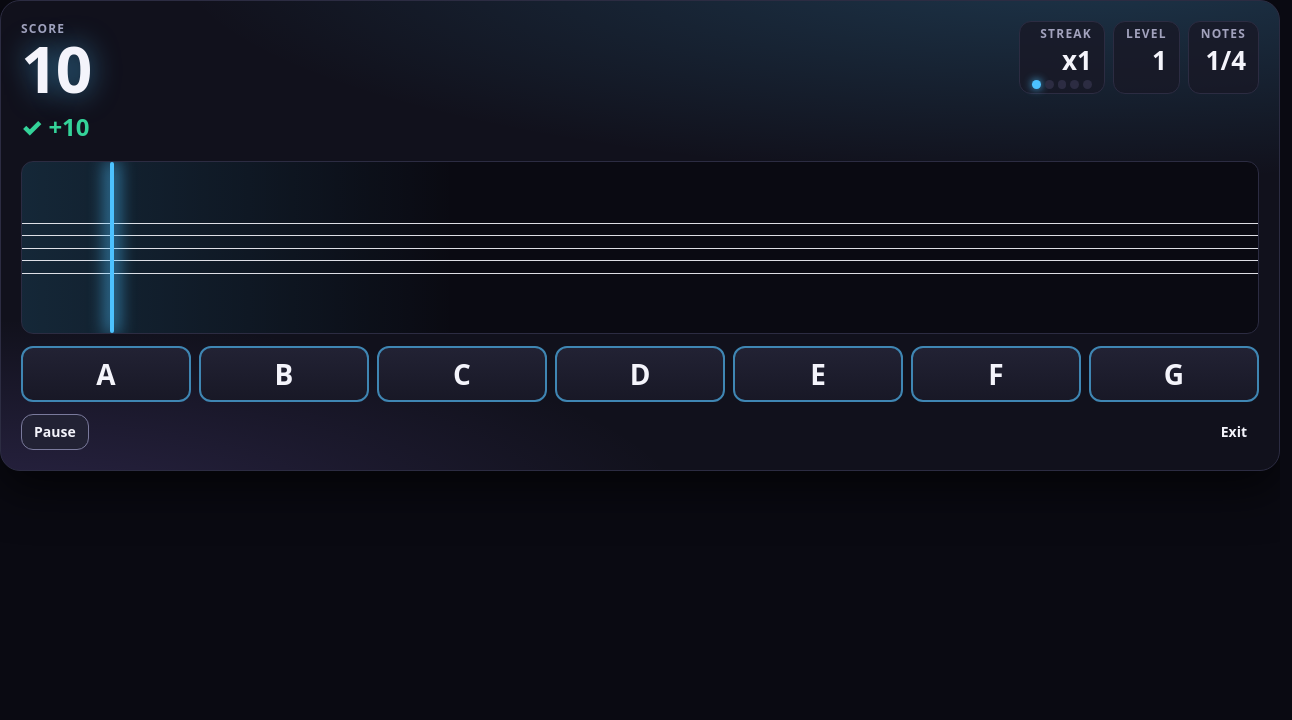
untimed round: start -> play -> results › plays a whole round with buttons and computer keys, right and wrong
The image size is (1292, 720).
Earlier steps of the test are not shown.
Expected: the text with test id "nr-score" reads "10", 21,25 -> 90,112
Expected: the element with test id "nr-feedback" shows "✓", 21,110 -> 42,143
Step 1. Press C
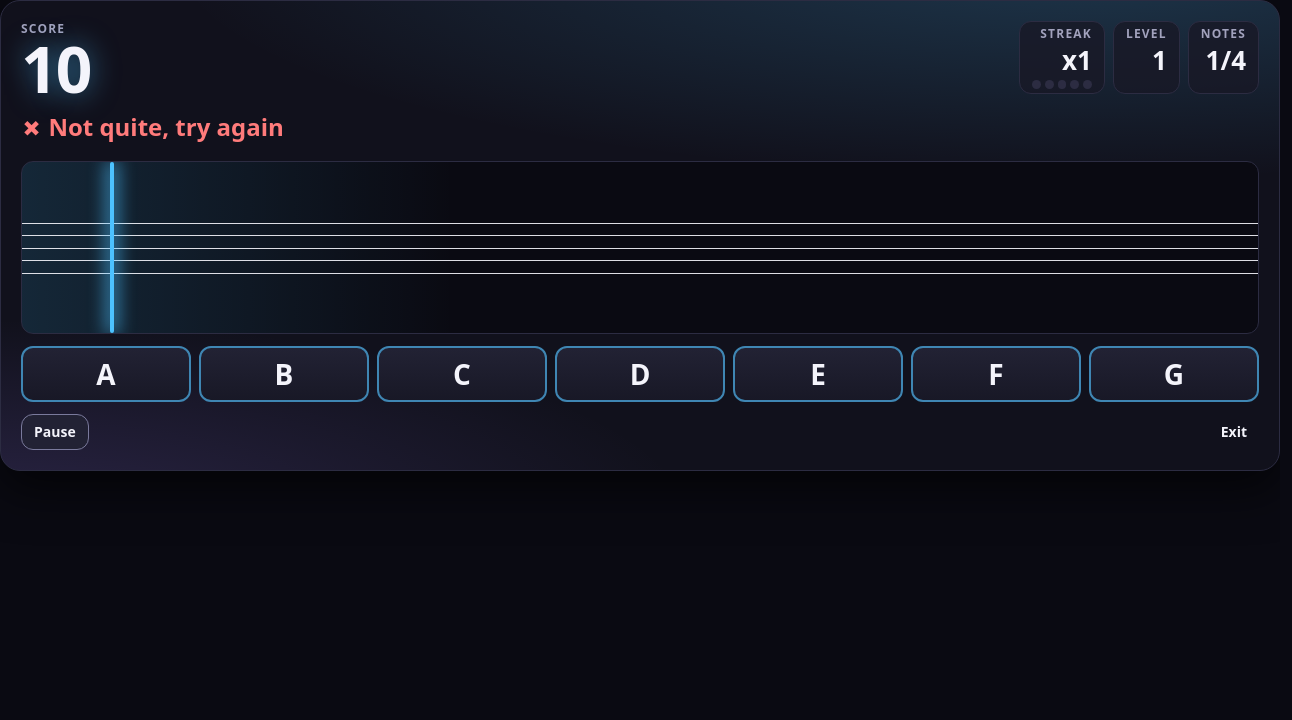
Step 2. Press a
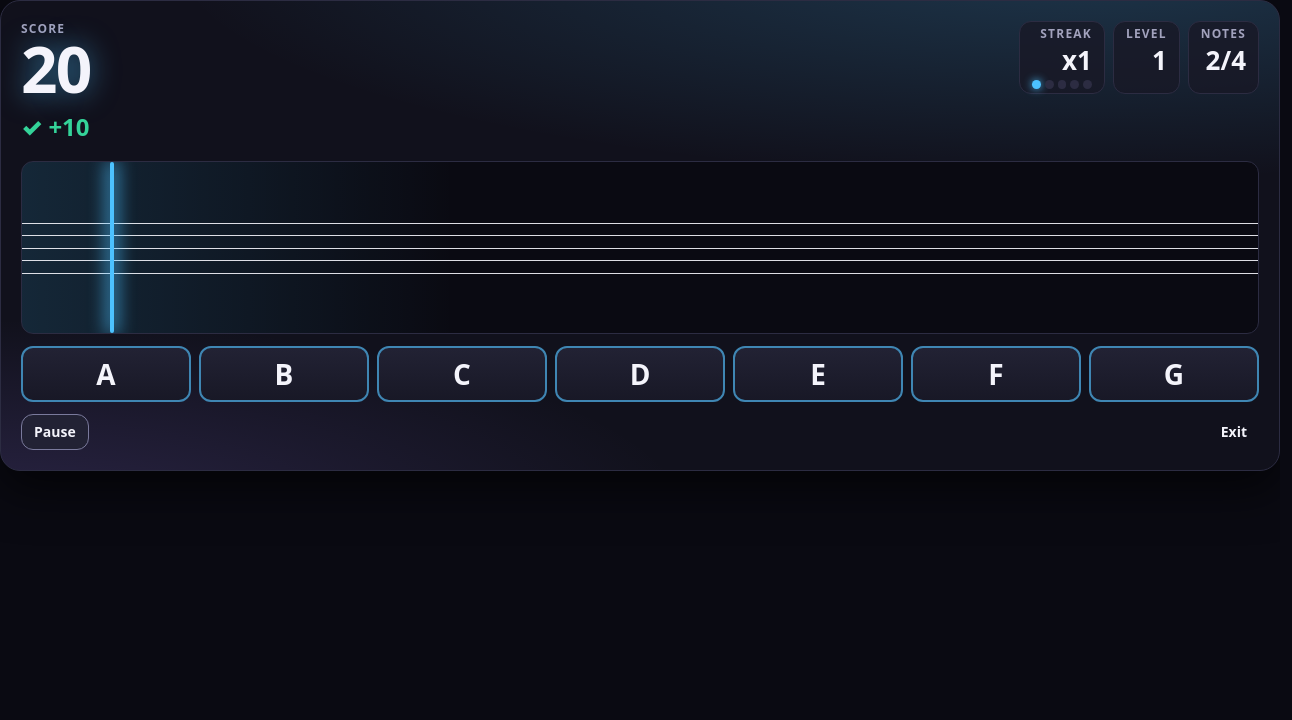
Now the text with test id "nr-score" reads "20", box 21,25 -> 90,112
Step 3. Press h
Step 4. Press 1
Step 5. Press a
Step 6. Press a
Now the text with test id "nr-score" reads "20", box 21,25 -> 90,112
Now the text with test id "nr-progress" reads "2/4", box 1201,42 -> 1246,78
Step 7. Click the button "E" → click(818, 374), box 733,346 -> 903,402
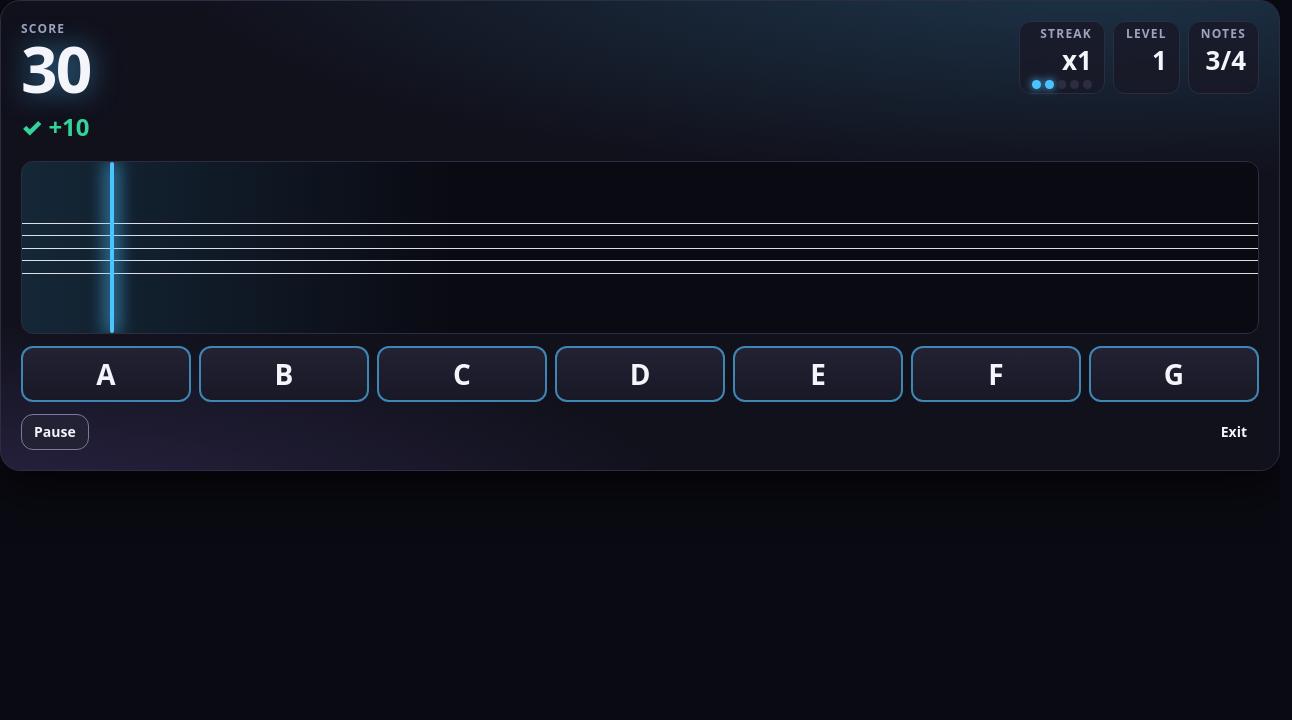
Step 8. Press c
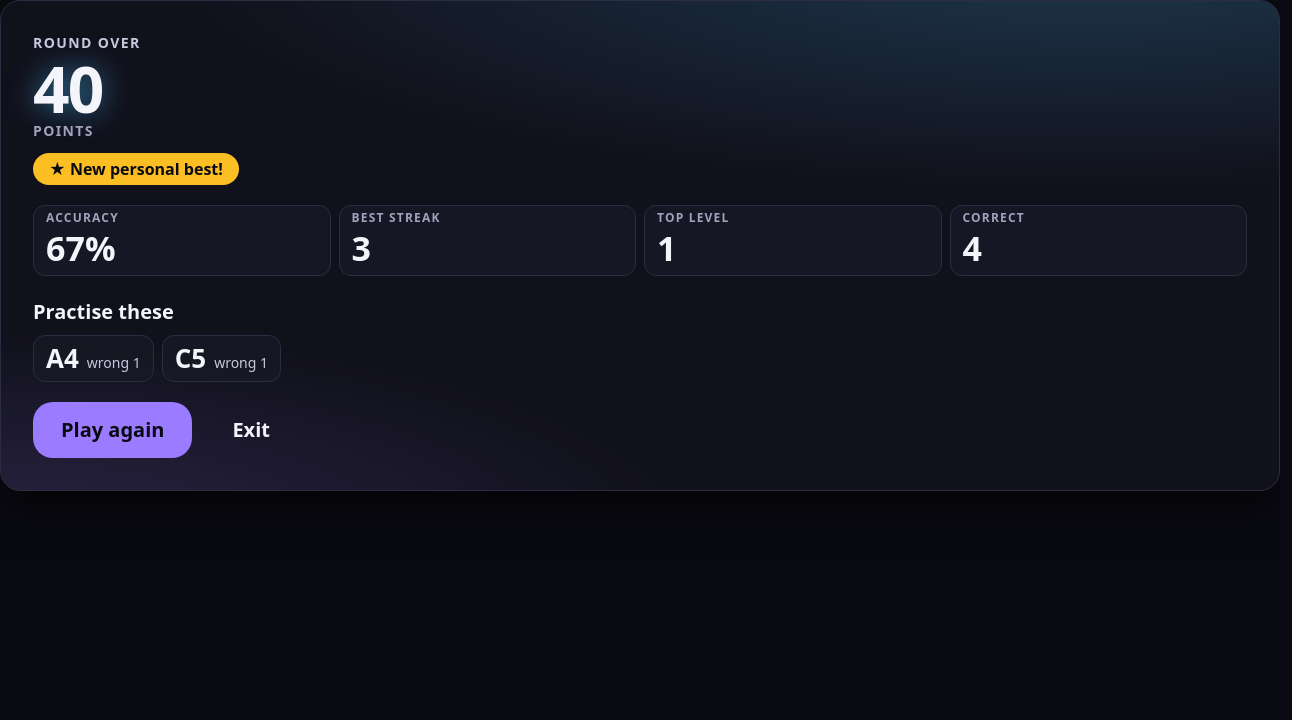
Now the text with test id "nr-final-score" reads "40", box 33,45 -> 102,132
Now the text "67%" is shown, box 46,225 -> 116,271
Now the heading "Practise these" is shown, box 33,298 -> 174,325
